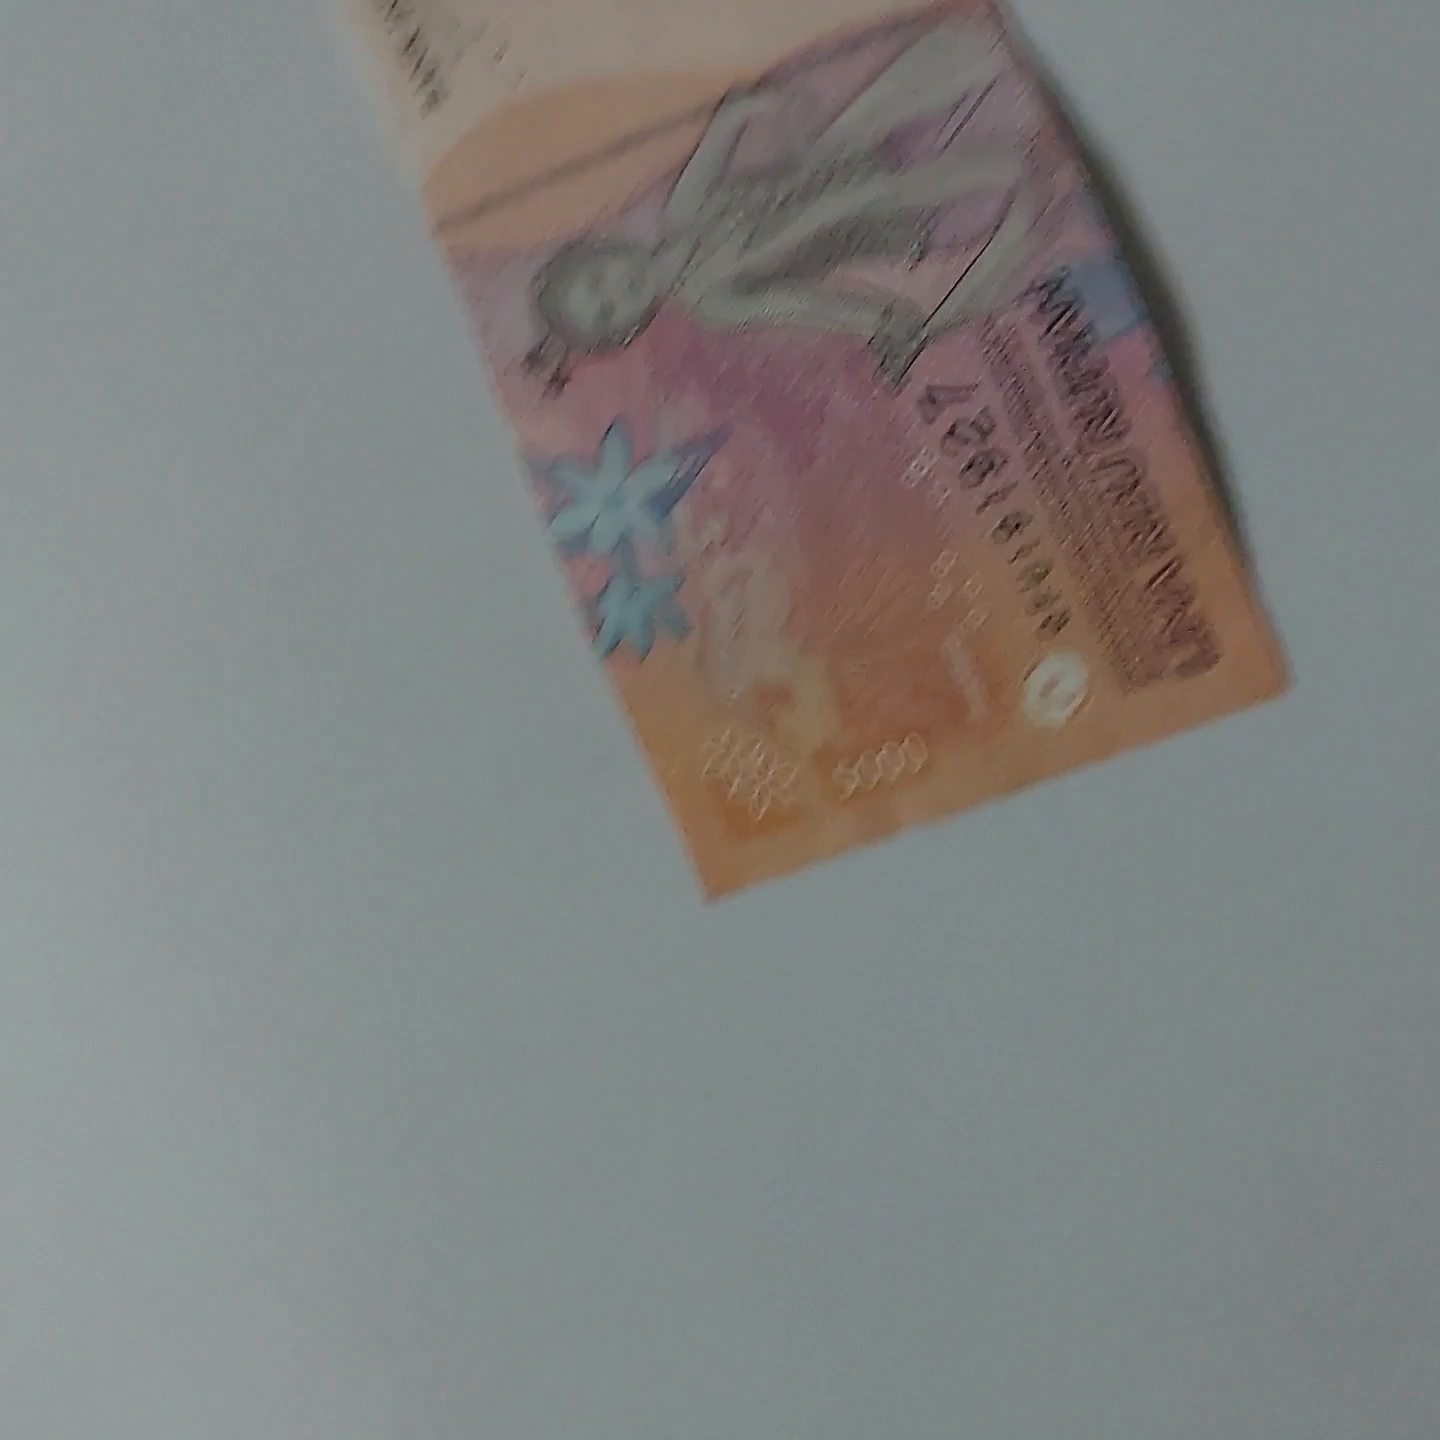5k: (363, 0, 1353, 822)
